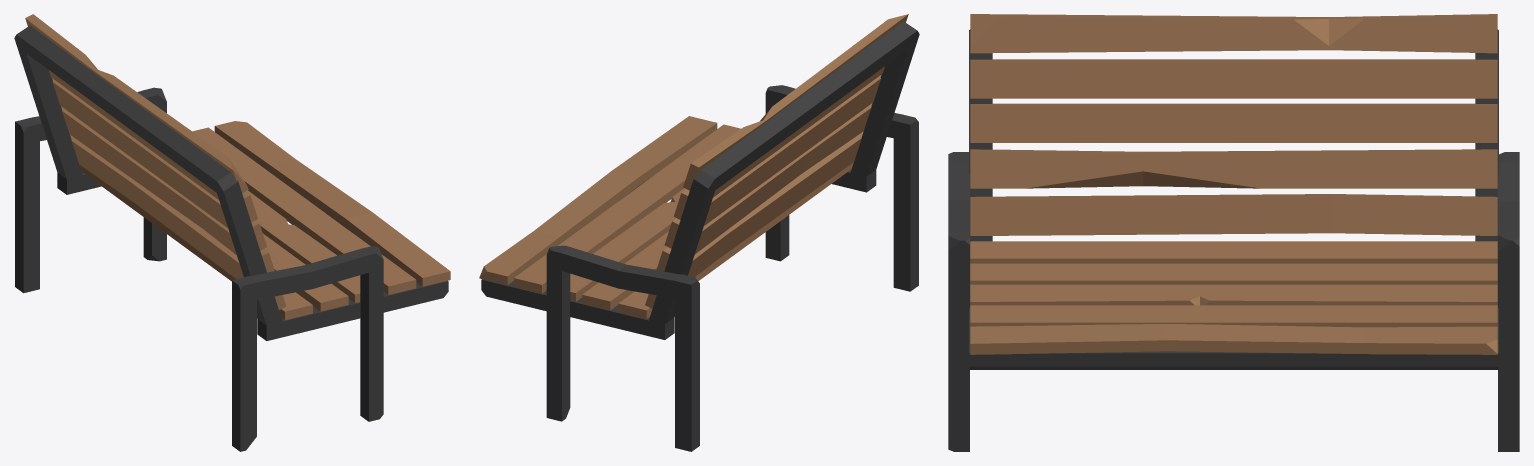
Rendered from park_bench.glb.
3 views of the same model, side by side, from view 1: azimuth 30°, elevation 25°; view 2: azimuth 150°, elevation 25°; view 3: azimuth 270°, elevation 25° (orthographic). The views are drawn at different scales.
Visible parts, largest first — view 1: Park_Bench_Cube_13ad4b, Park_Bench_Cube; view 2: Park_Bench_Cube_13ad4b, Park_Bench_Cube; view 3: Park_Bench_Cube_13ad4b, Park_Bench_Cube.
Boxes of the visible parts, bbox=[...] form: Park_Bench_Cube_13ad4b: bbox=[25, 14, 450, 320]; Park_Bench_Cube: bbox=[14, 25, 448, 451]; Park_Bench_Cube_13ad4b: bbox=[479, 14, 908, 318]; Park_Bench_Cube: bbox=[481, 21, 919, 451]; Park_Bench_Cube_13ad4b: bbox=[970, 14, 1497, 354]; Park_Bench_Cube: bbox=[948, 29, 1519, 451].
Size of the model in its own units: 0.432 by 0.5 by 0.7334.
